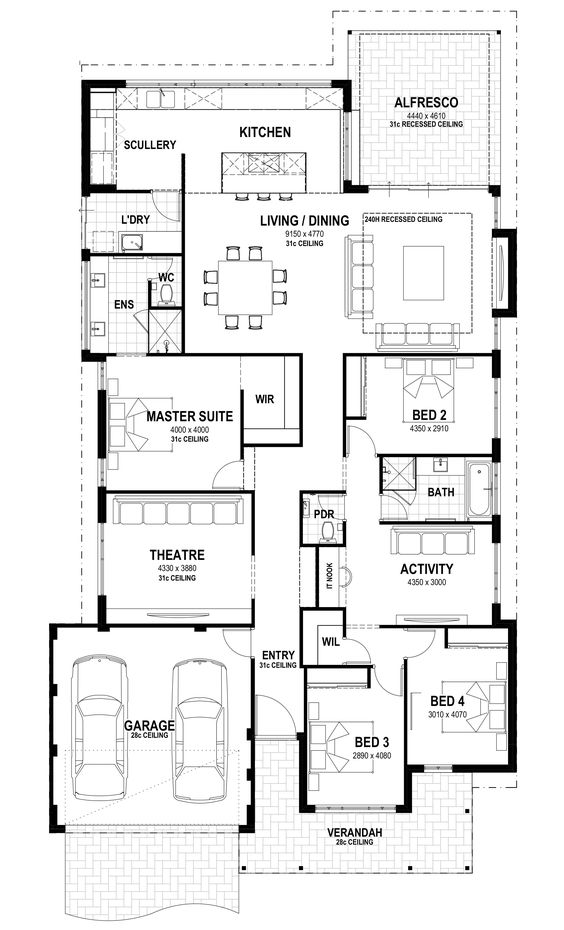door: (150, 191, 182, 223), (219, 625, 251, 657), (346, 422, 378, 454), (208, 457, 240, 489), (408, 626, 439, 655), (373, 670, 403, 699), (347, 639, 372, 663), (384, 497, 409, 521)
room: (178, 182, 507, 361), (76, 78, 353, 196), (97, 349, 303, 496), (96, 486, 259, 629), (401, 619, 518, 774), (340, 351, 504, 455), (302, 663, 413, 815), (367, 518, 505, 629), (79, 250, 188, 359), (374, 449, 506, 527), (77, 186, 188, 260), (297, 605, 354, 669), (297, 486, 354, 547)
